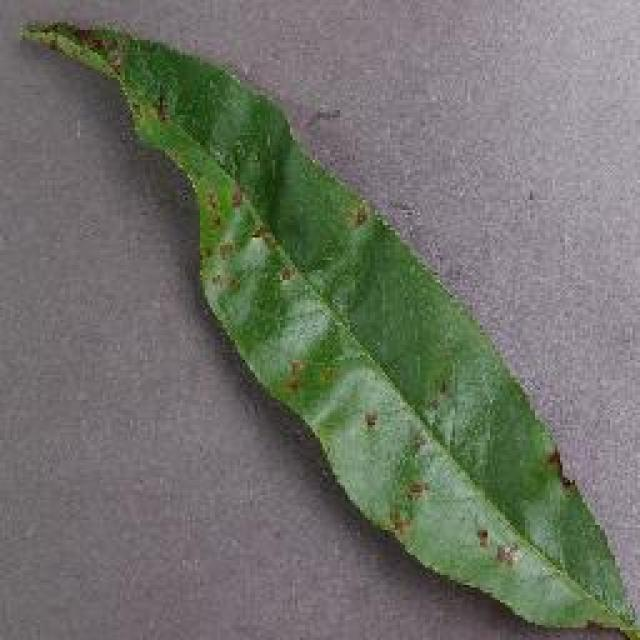Peach_Bacterial_Spot: (122, 120, 450, 403)
